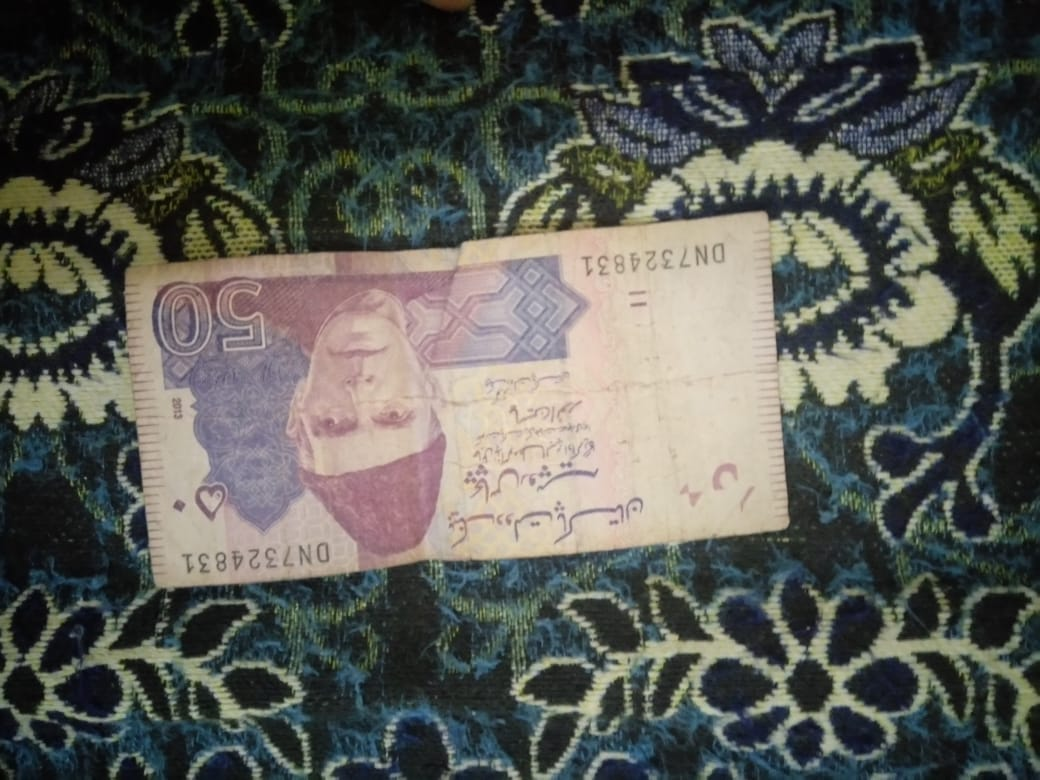50 rupee: (108, 221, 809, 573)
